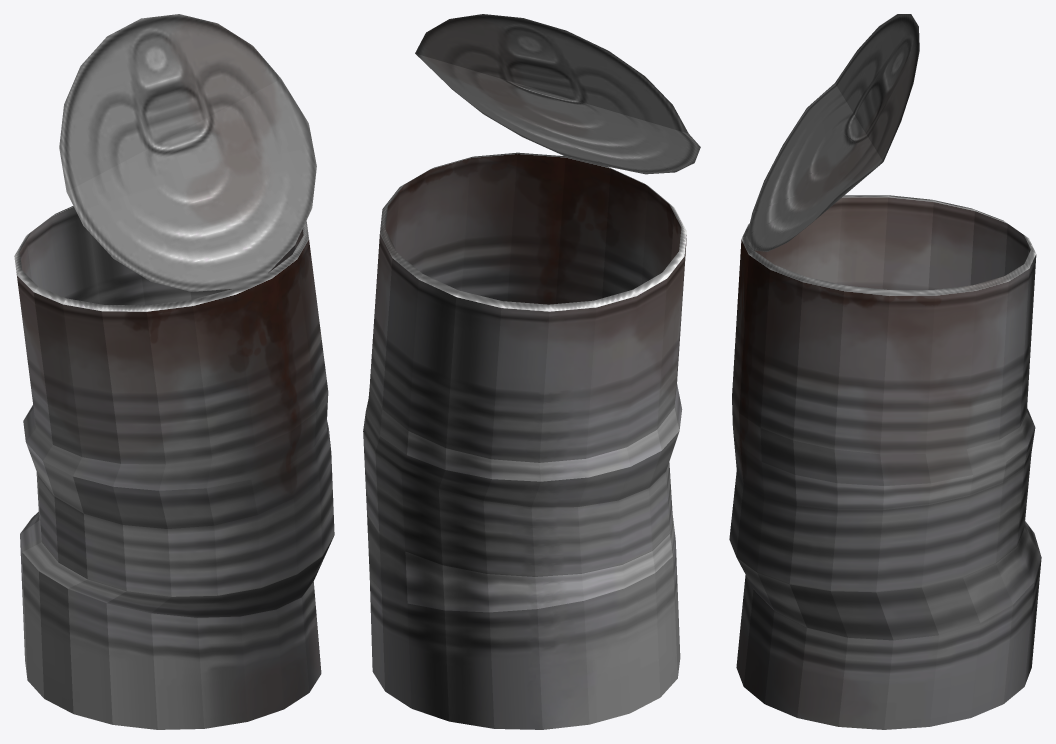
File: lata.fbx
3 views of the same model, side by side, from view 1: azimuth 30°, elevation 25°; view 2: azimuth 150°, elevation 25°; view 3: azimuth 270°, elevation 25° (orthographic). The views are drawn at different scales.
Parts seen in each view (by area): view 1: Cylinder; view 2: Cylinder; view 3: Cylinder.
Part boxes in pixels (left/top/right/bottom): Cylinder: left=14, top=14, right=334, bottom=729; Cylinder: left=363, top=14, right=700, bottom=729; Cylinder: left=729, top=14, right=1041, bottom=729.
Bounding box in the file's own units: 214 × 474 × 211.
